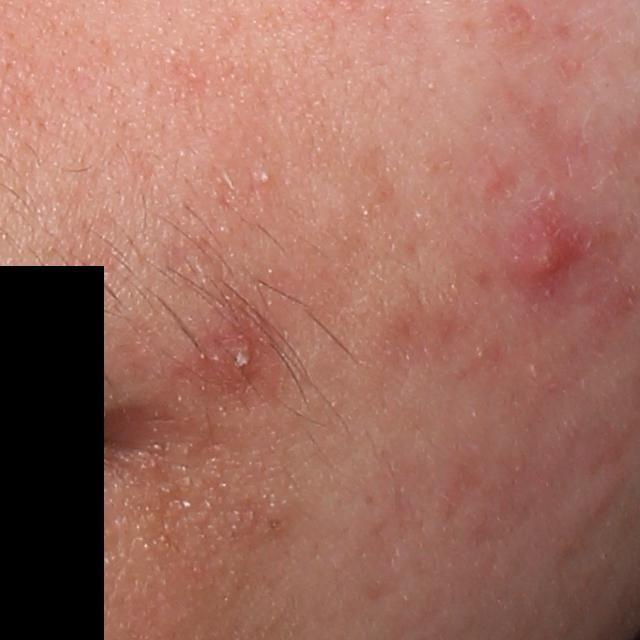comedo: (262, 514, 291, 538), (256, 169, 271, 187)
